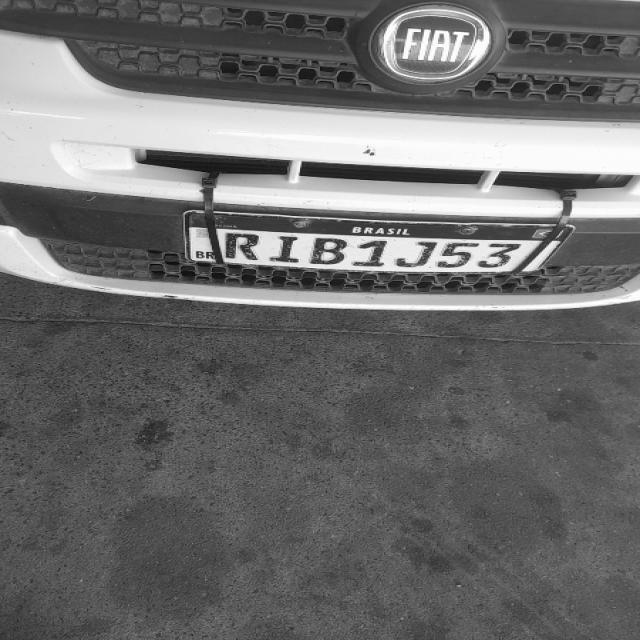placa_mercosul: (183, 209, 572, 277)
